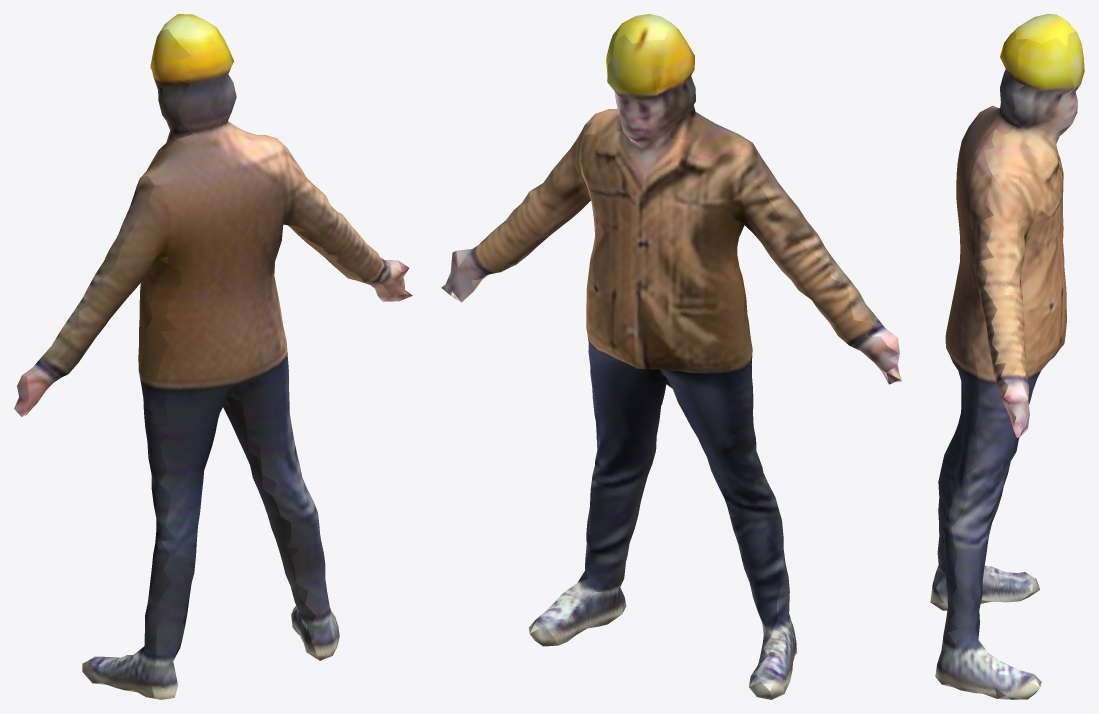
3 views of the same model, side by side, from view 1: azimuth 30°, elevation 25°; view 2: azimuth 150°, elevation 25°; view 3: azimuth 270°, elevation 25° (orthographic). The views are drawn at different scales.
Visible parts, largest first — view 1: world; view 2: world; view 3: world.
Boxes of the visible parts, x1,y1,x2,y2 form: world: (14, 14, 412, 699); world: (441, 14, 901, 699); world: (930, 14, 1084, 699).
Size of the model in its own units: 0.6994 by 1 by 0.2241.
1 material, 1 textured.
